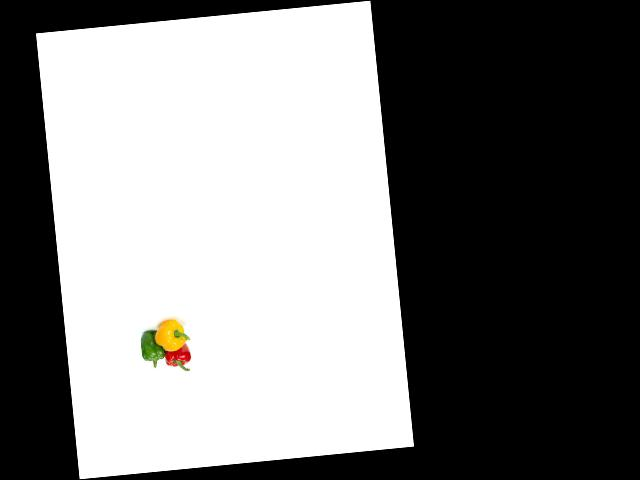bell_pepper: (159, 338, 196, 376)
